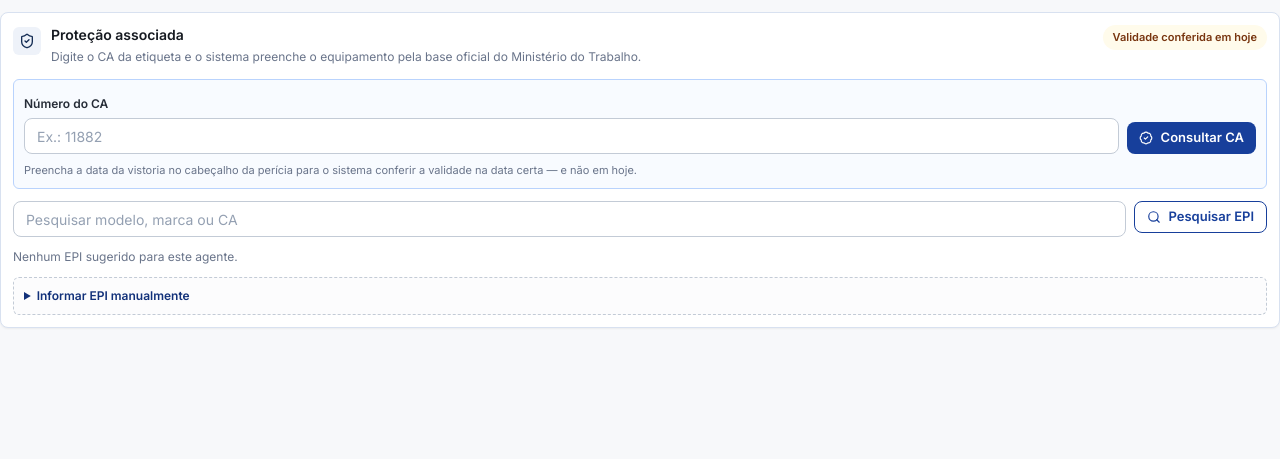
Test: EpiSelector › ignora resposta antiga quando buscas submetidas terminam fora de ordem
This screenshot has width=1280, height=459.
Expected: the text "Nenhum EPI sugerido para este agente." is shown, [13, 249, 238, 264]
Type "6200" into the search field named "Pesquisar EPI, marca ou CA" at (569, 219), box [13, 201, 1126, 237]
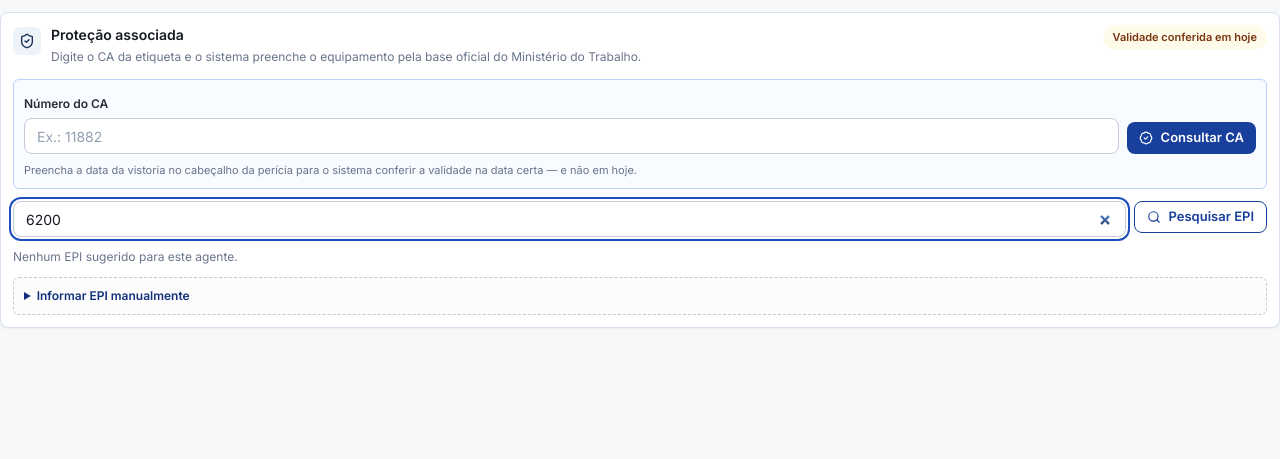
Click the button "Pesquisar EPI" at (1200, 217), box [1134, 201, 1267, 233]
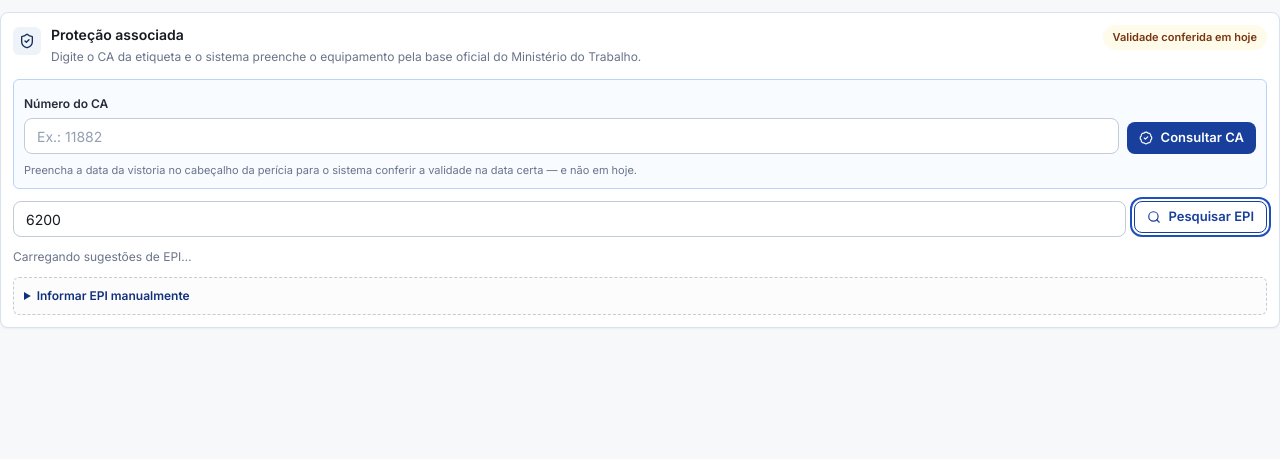
Replace the text in the search field named "Pesquisar EPI, marca ou CA" with "7502" at (569, 219), box [13, 201, 1126, 237]
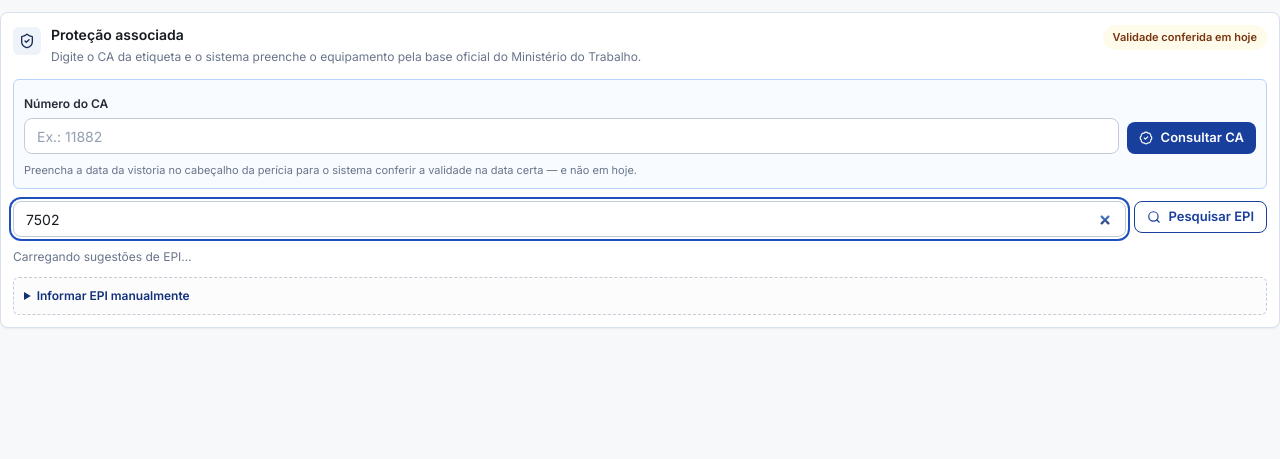
Click the button "Pesquisar EPI" at (1200, 217), box [1134, 201, 1267, 233]
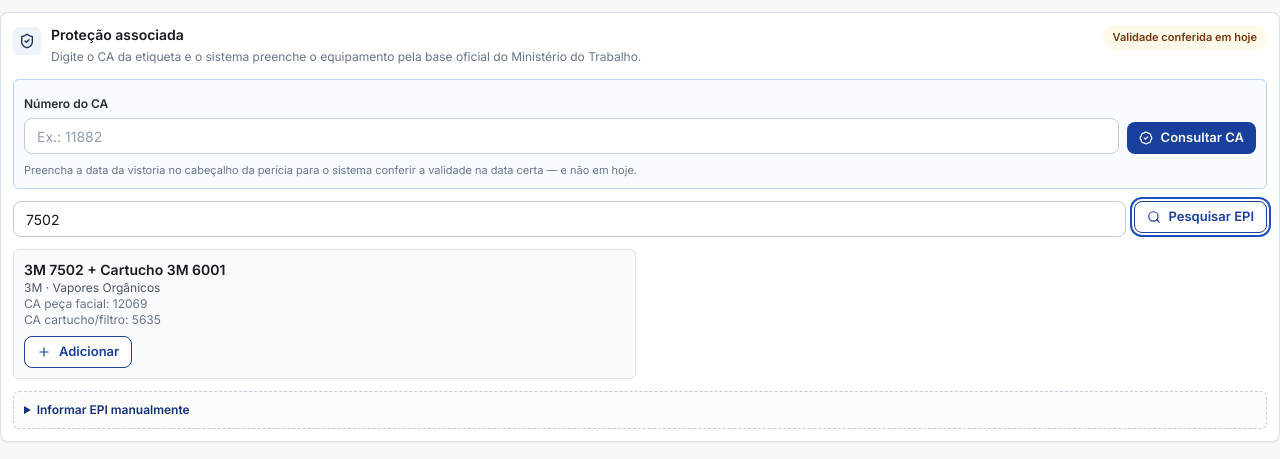
Result: the button with aria-label "Adicionar 3M 7502" is shown at [24, 336, 132, 368]
